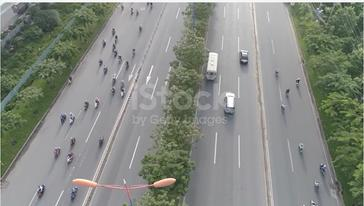bus: (203, 48, 220, 84)
car: (222, 89, 239, 117), (236, 45, 251, 67)
motorcycle: (315, 162, 329, 176), (51, 146, 64, 161), (312, 180, 324, 196), (66, 188, 79, 202), (296, 142, 308, 157), (282, 86, 292, 99), (92, 98, 102, 111), (36, 183, 44, 199), (66, 152, 74, 166), (59, 112, 66, 128), (67, 137, 78, 147), (279, 103, 288, 115), (82, 99, 89, 114), (118, 87, 127, 98), (108, 84, 116, 96), (273, 67, 280, 80), (103, 64, 109, 77), (68, 115, 75, 126), (98, 137, 104, 149), (125, 60, 131, 72), (98, 58, 104, 68), (294, 80, 300, 89)
